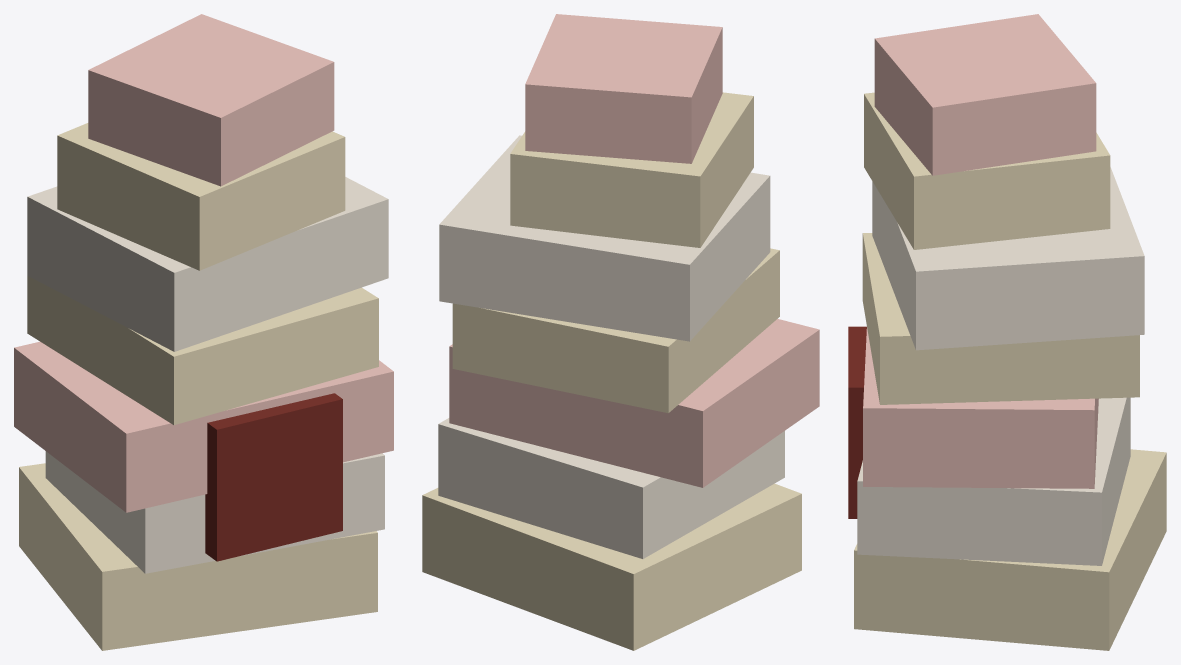
File: prop_paper_stack.glb
3 views of the same model, side by side, from view 1: azimuth 30°, elevation 25°; view 2: azimuth 150°, elevation 25°; view 3: azimuth 270°, elevation 25° (orthographic). The views are drawn at different scales.
Parts seen in each view (by area): view 1: prop_paper_stack; view 2: prop_paper_stack; view 3: prop_paper_stack.
Boxes of the visible parts, x1,y1,x2,y2 form: prop_paper_stack: (14, 14, 393, 650); prop_paper_stack: (422, 14, 819, 650); prop_paper_stack: (848, 14, 1166, 650).
Size of the model in its own units: 1.16 by 1.98 by 1.1.
Materials: 1 (1 with a texture image).
